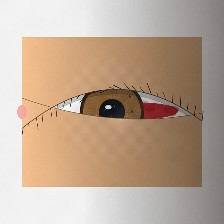hemorrhage_spot: (91, 70, 192, 151)
